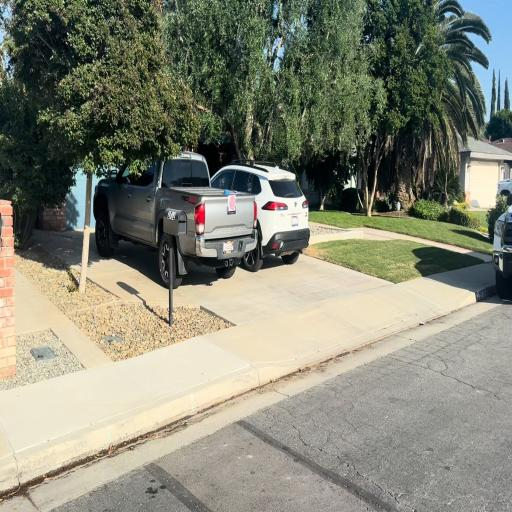bullseye: (229, 195, 236, 211)
